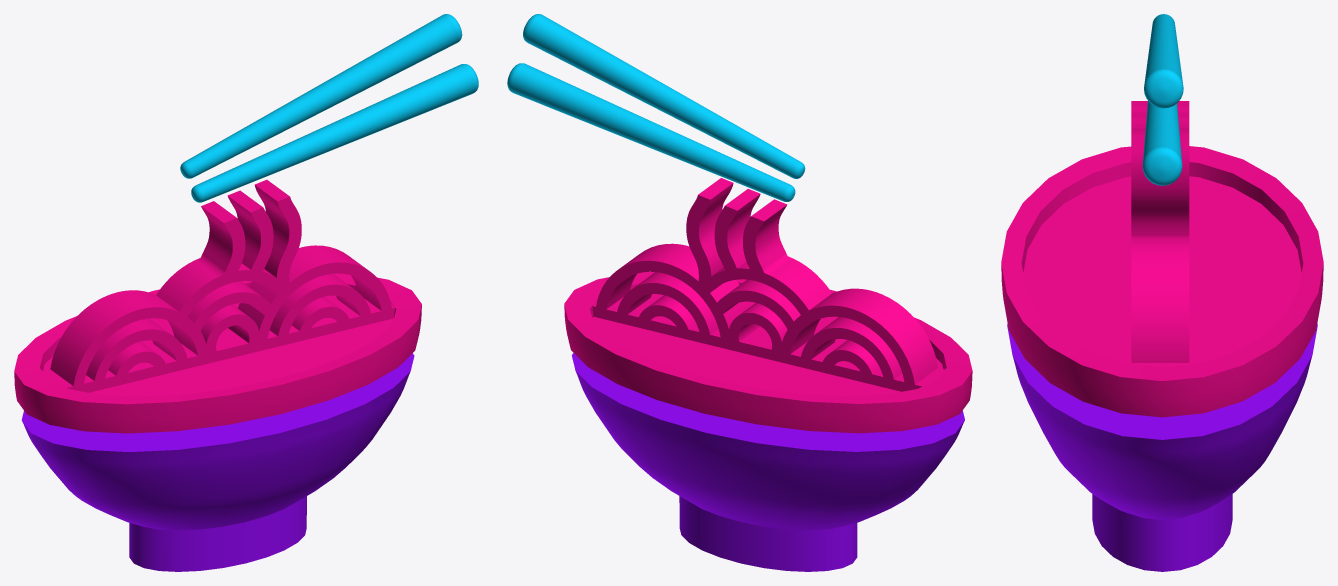
Rendered from Ramen.glb.
3 views of the same model, side by side, from view 1: azimuth 30°, elevation 25°; view 2: azimuth 150°, elevation 25°; view 3: azimuth 270°, elevation 25° (orthographic). The views are drawn at different scales.
Visible parts, largest first — view 1: mesh_id6, mesh_id7, mesh_id8, mesh_id9, mesh_id4, mesh_id5; view 2: mesh_id6, mesh_id7, mesh_id8, mesh_id10, mesh_id4, mesh_id5; view 3: mesh_id7, mesh_id6, mesh_id8, mesh_id4, mesh_id5.
Part boxes in pixels (left/top/right/bottom): mesh_id6: left=21, top=353, right=414, bottom=571; mesh_id7: left=14, top=273, right=421, bottom=433; mesh_id8: left=42, top=179, right=394, bottom=387; mesh_id9: left=67, top=197, right=394, bottom=392; mesh_id4: left=180, top=14, right=462, bottom=178; mesh_id5: left=191, top=64, right=478, bottom=202; mesh_id6: left=572, top=353, right=964, bottom=571; mesh_id7: left=564, top=272, right=972, bottom=433; mesh_id8: left=592, top=178, right=945, bottom=386; mesh_id10: left=592, top=195, right=921, bottom=391; mesh_id4: left=523, top=14, right=805, bottom=178; mesh_id5: left=507, top=63, right=795, bottom=201; mesh_id7: left=1001, top=146, right=1323, bottom=417; mesh_id6: left=1007, top=324, right=1317, bottom=571; mesh_id8: left=1131, top=101, right=1189, bottom=367; mesh_id4: left=1144, top=14, right=1183, bottom=108; mesh_id5: left=1142, top=101, right=1182, bottom=185.
Size of the model in its own units: 0.512 by 0.5113 by 0.2525.
Materials: 7 (7 with a texture image).
